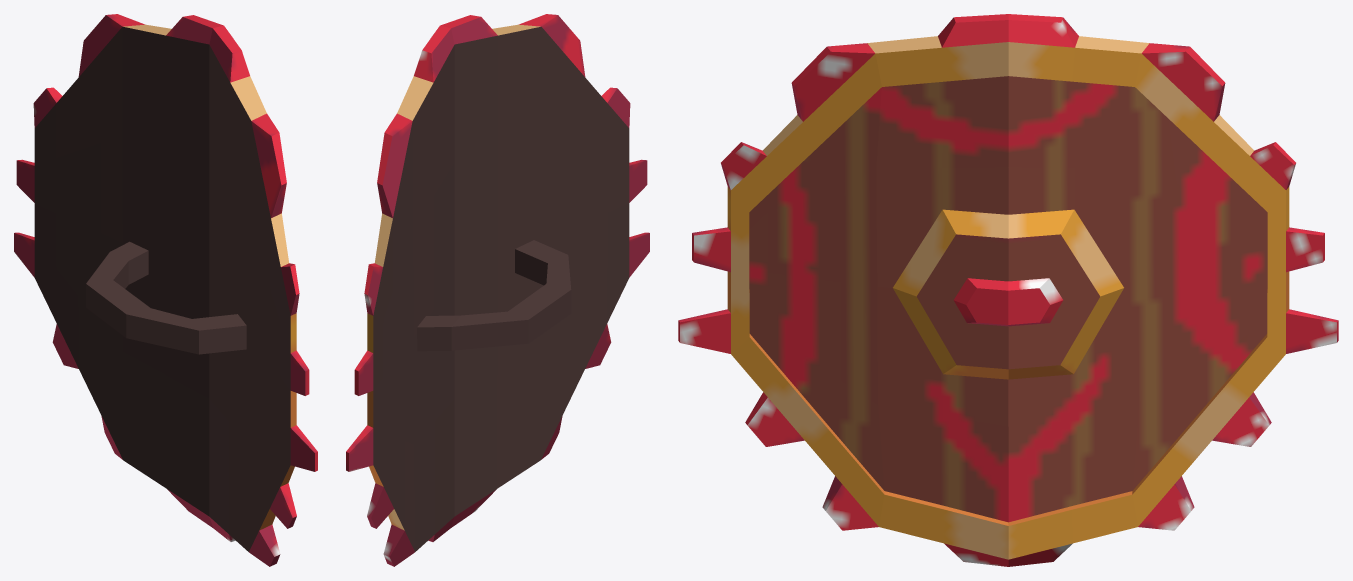
The model's file is Shield.fbx.
3 views of the same model, side by side, from view 1: azimuth 30°, elevation 25°; view 2: azimuth 150°, elevation 25°; view 3: azimuth 270°, elevation 25° (orthographic). The views are drawn at different scales.
Parts seen in each view (by area): view 1: Cube.001; view 2: Cube.001; view 3: Cube.001.
Boxes of the visible parts, bbox=[...] form: Cube.001: bbox=[14, 14, 317, 566]; Cube.001: bbox=[346, 14, 649, 566]; Cube.001: bbox=[678, 14, 1338, 566].
Bounding box in the file's own units: 658 × 187 × 718.
